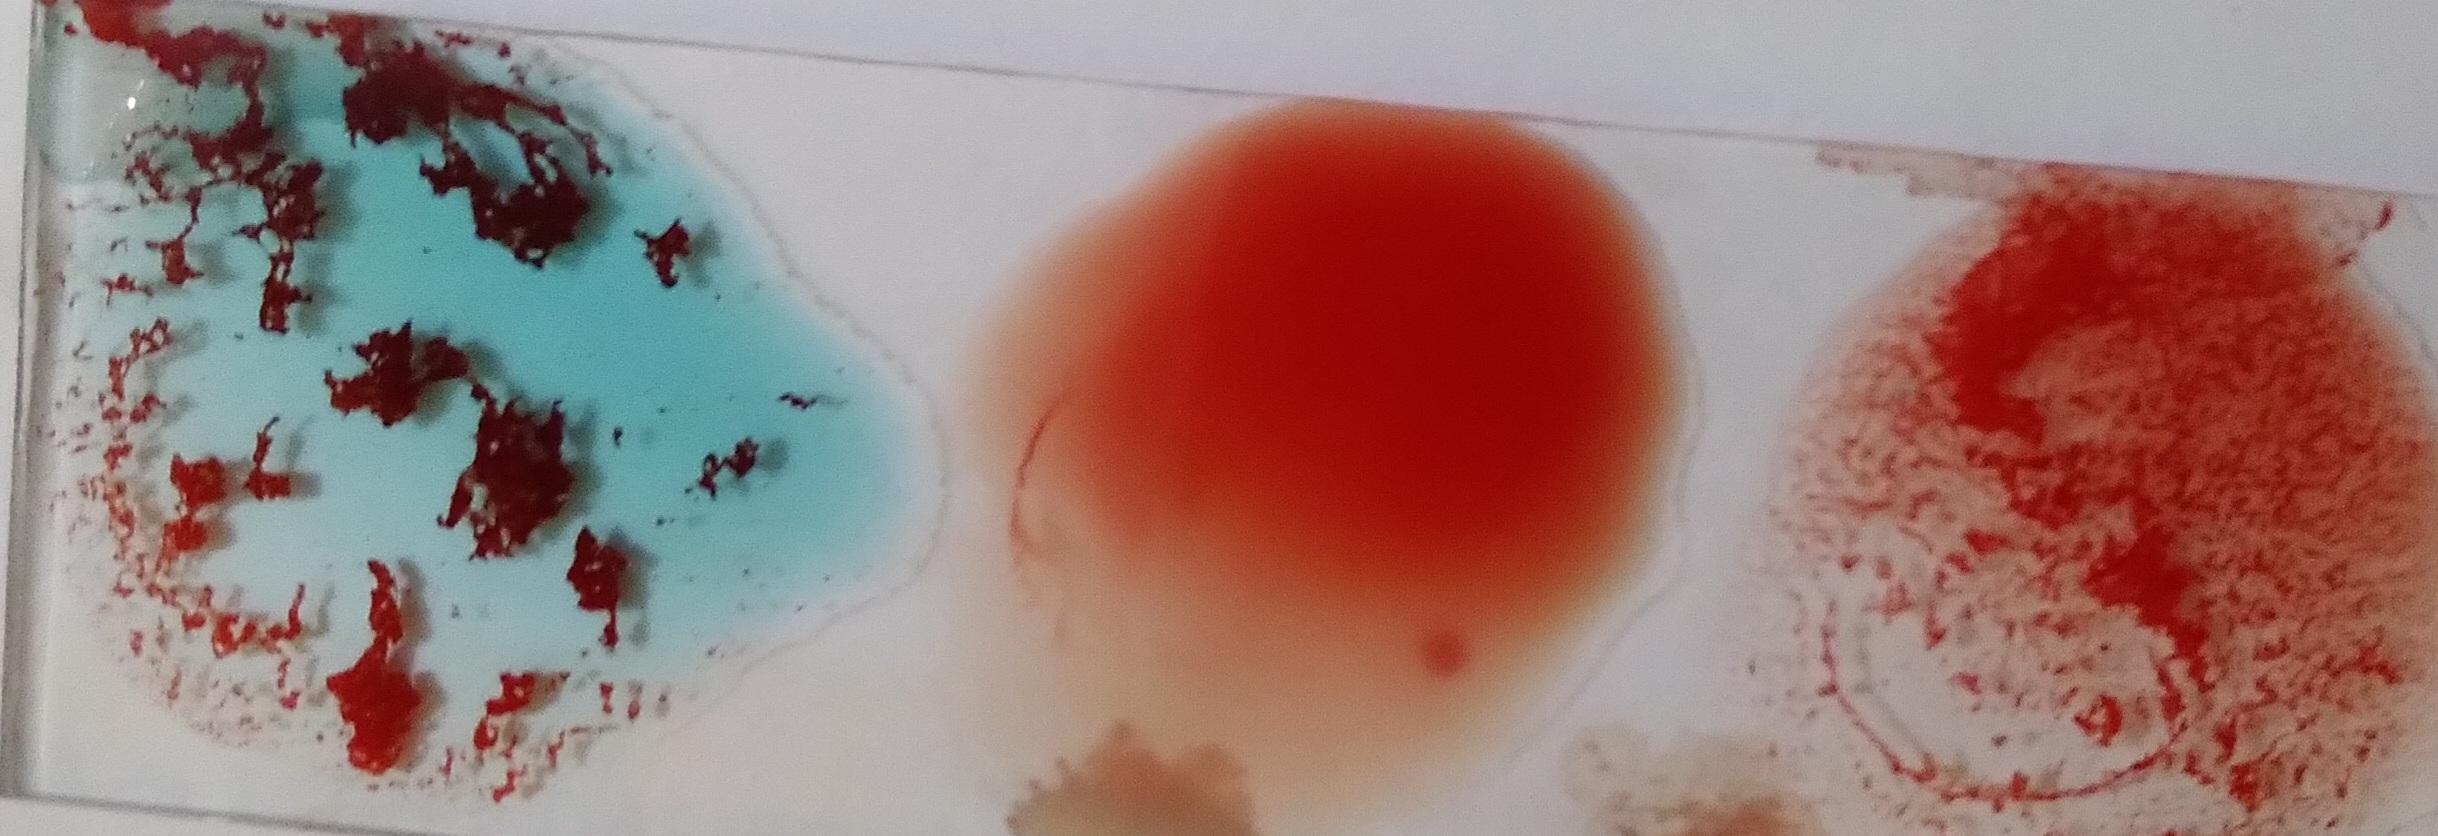A: (101, 28, 784, 758)
D: (1816, 183, 2421, 817)
